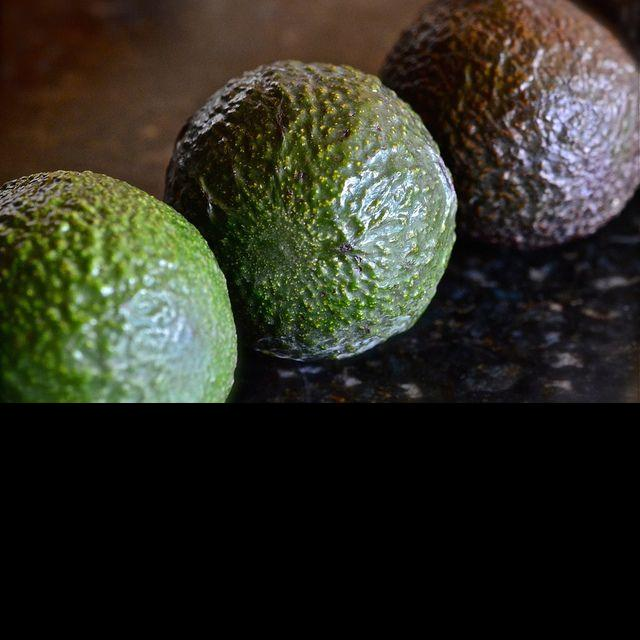ripe: (377, 1, 640, 248)
unripe: (163, 60, 457, 362), (1, 170, 237, 403)
